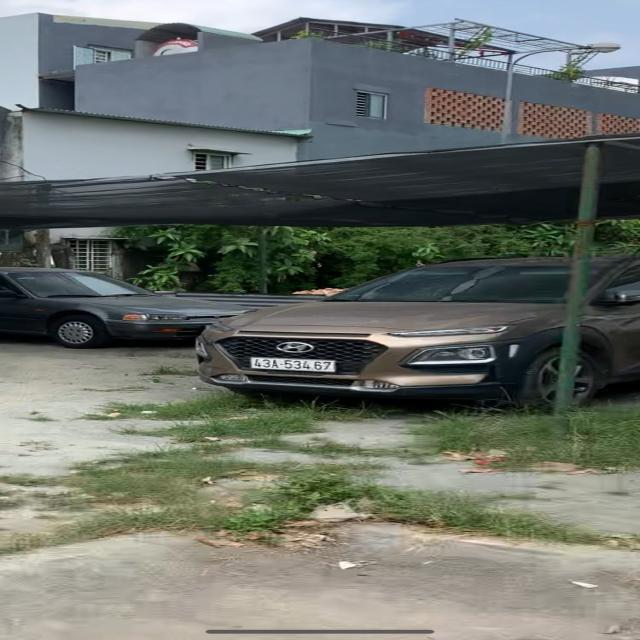car: (195, 252, 640, 420), (0, 259, 226, 356)
plate: (245, 351, 341, 379)
